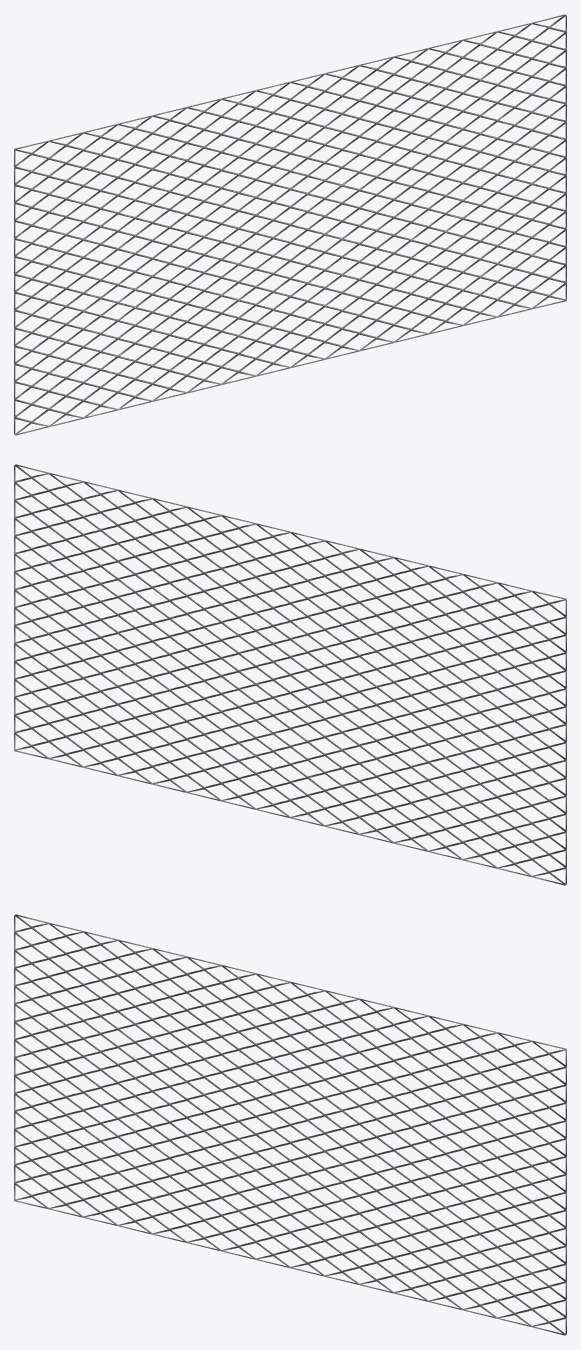
File: ROOKİE TEL ÖRGÜ.fbx
3 renders of one model, top to bottom at view 1: azimuth 30°, elevation 25°; view 2: azimuth 150°, elevation 25°; view 3: azimuth 330°, elevation 25°, orthographic.
Parts seen in each view (by area): view 1: tel; view 2: tel; view 3: tel.
Part boxes in pixels (x1,y1,x2,y2): tel: [14, 14, 566, 435]; tel: [14, 464, 566, 885]; tel: [14, 914, 566, 1335].
Bounding box in the file's own units: 397 × 197 × 1.64.
Materials: 1 (1 with a texture image).
